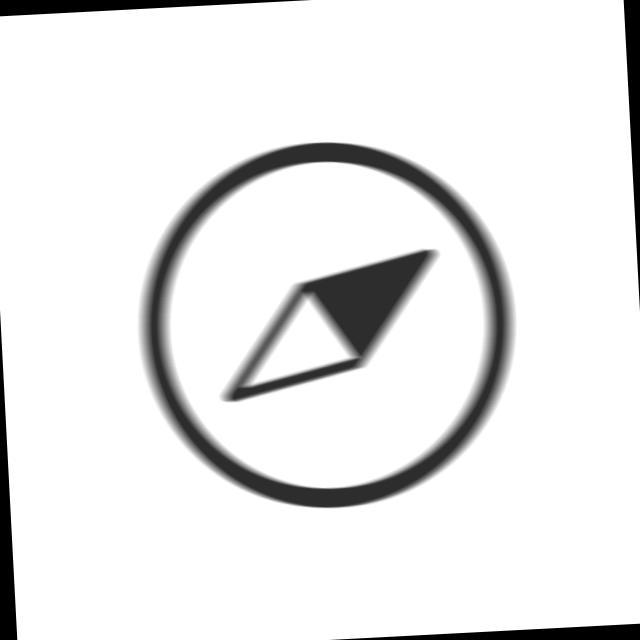compass: (121, 127, 530, 525)
